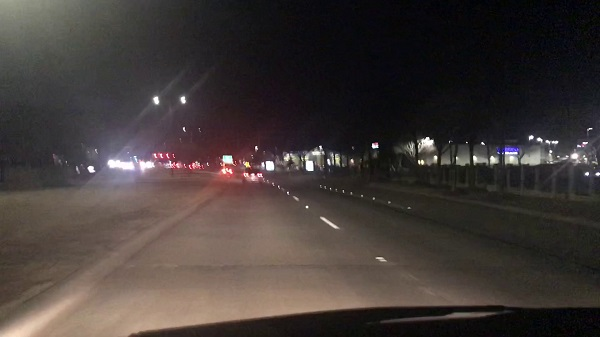car: (241, 168, 262, 183), (220, 163, 235, 175)
